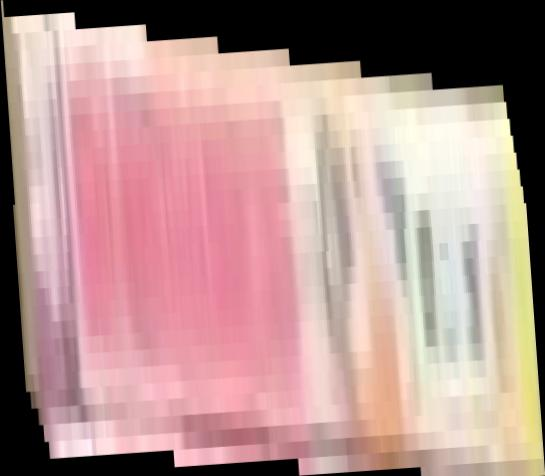flat: (1, 1, 545, 476)
